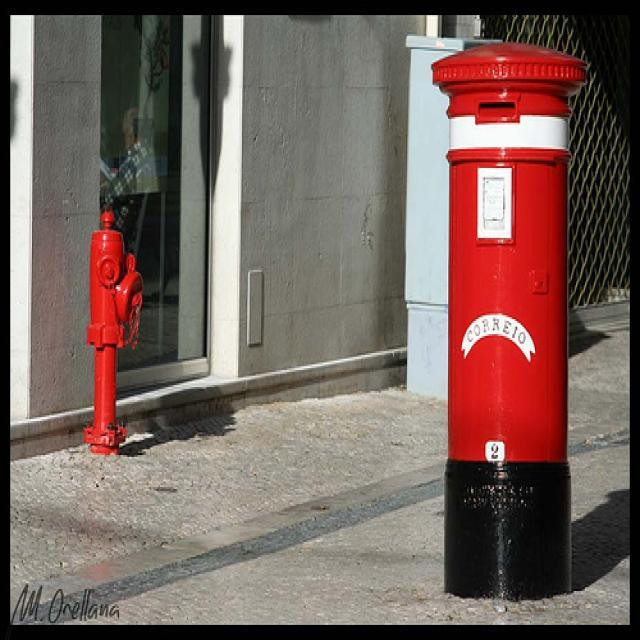fire_hydrant: (427, 39, 589, 592), (79, 202, 142, 459)
